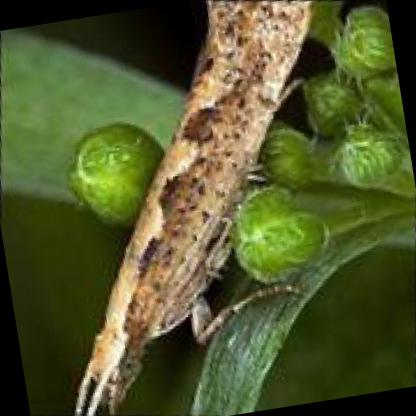plutella: (69, 0, 324, 416)
